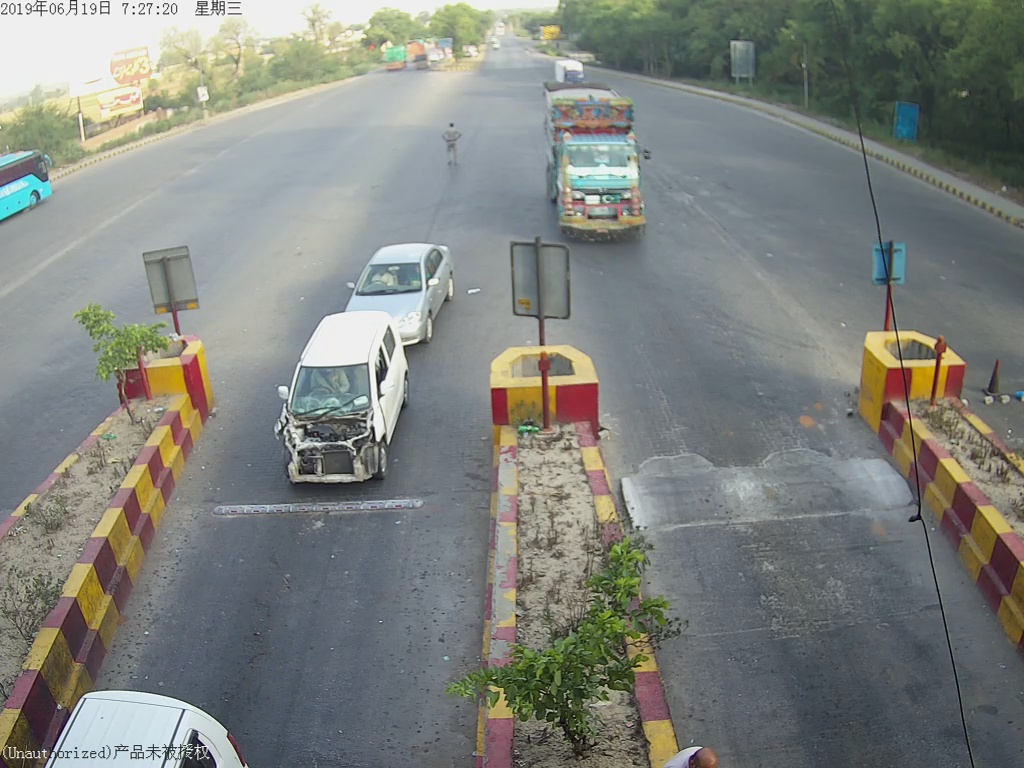Cat-1: (277, 314, 410, 486)
Cat-4: (541, 72, 652, 241)
